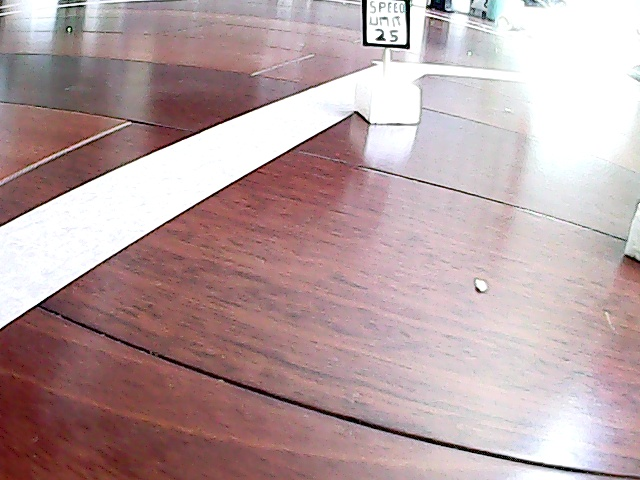speed_25: (349, 1, 428, 130)
